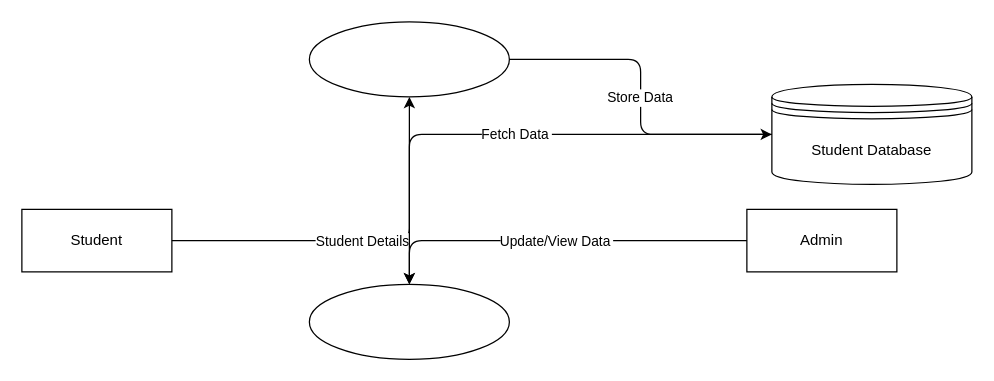
Image size: 994x381. Some labels were removed from this diagram. The shapes that lost their labels are listed below. From the top down, each one's centre as x and y in pixels, then its label:
the point at 408,59: Register Student
the point at 408,321: Manage Records
